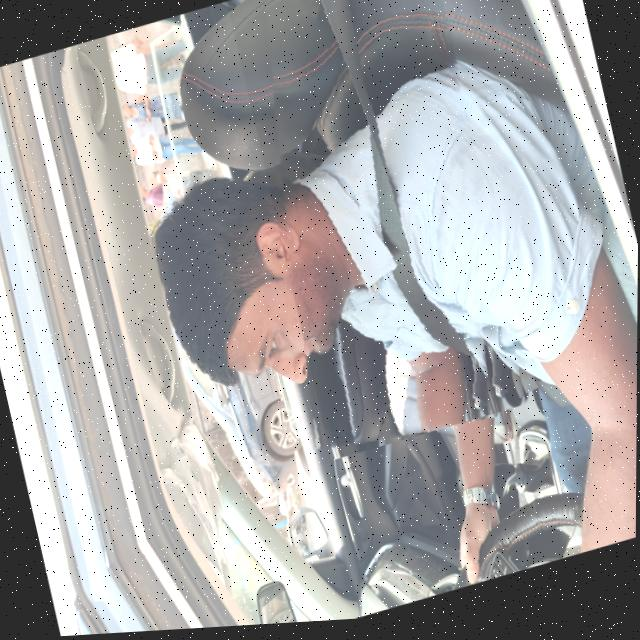seatbelt: (223, 0, 535, 467)
